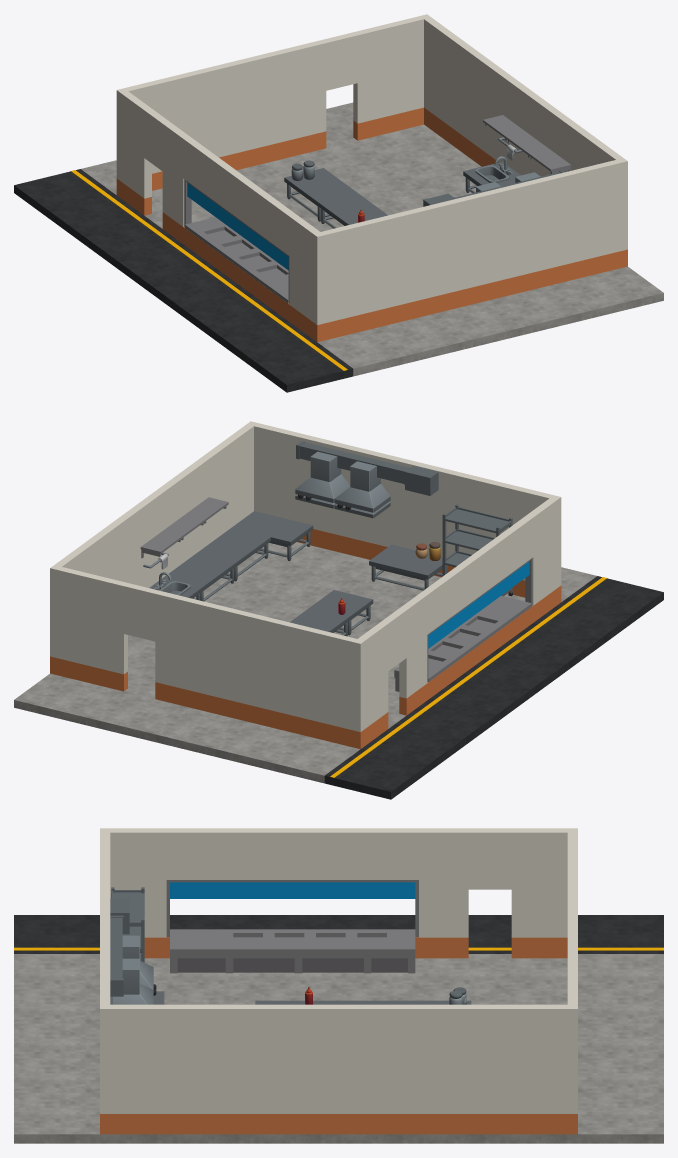
The model's file is QuackCook_Kitchen.glb.
3 views of the same model, one above another, from view 1: azimuth 30°, elevation 25°; view 2: azimuth 150°, elevation 25°; view 3: azimuth 270°, elevation 25° (orthographic). The views are drawn at different scales.
Parts seen in each view (by area): view 1: Part.023, Part.025, Union, Part.027, Union.001, Part.015, Part.028, Part.036, Union.002, Part.018, kitchentable_A_large.004, Part.039 (+8 smaller); view 2: Part.025, Union, Part.027, Part.023, Union.001, Part.015, Part.018, Part.036, Union.002, extractorhood.001, kitchentable_A_large.005, extractorhood (+17 smaller); view 3: Part.015, Part.025, Union.001, Part.027, Part.016, Union.002, Part.039, Part.035, Part.034, Union, Part.023, Part.036 (+8 smaller).
Part boxes in pixels (x1,y1,x2,y2): Part.023: (321, 160, 620, 323); Part.025: (81, 102, 663, 376); Union: (124, 16, 423, 173); Part.027: (14, 169, 353, 392); Union.001: (116, 88, 324, 324); Part.015: (420, 14, 627, 251); Part.028: (324, 251, 620, 340); Part.036: (162, 212, 324, 342); Union.002: (185, 217, 288, 303); Part.018: (152, 131, 326, 190); kitchentable_A_large.004: (284, 168, 357, 221); Part.039: (187, 183, 288, 270); Part.025: (14, 542, 596, 783); Union: (57, 567, 356, 730); Part.027: (324, 576, 663, 799); Part.023: (254, 423, 553, 580); Union.001: (353, 495, 561, 731); Part.015: (50, 421, 257, 658); Part.018: (155, 682, 353, 747); Part.036: (399, 585, 561, 715); Union.002: (394, 596, 531, 681); extractorhood.001: (334, 461, 390, 518); kitchentable_A_large.005: (369, 544, 447, 590); extractorhood: (295, 451, 350, 508); Part.015: (100, 1004, 577, 1113); Part.025: (14, 954, 663, 1143); Union.001: (100, 828, 577, 937); Part.027: (14, 915, 663, 953); Part.016: (100, 1114, 577, 1134); Union.002: (170, 929, 415, 953); Part.039: (170, 882, 415, 898); Part.035: (177, 958, 407, 972); Part.034: (170, 937, 415, 958); Union: (567, 832, 577, 1004); Part.023: (100, 832, 110, 1004); Part.036: (144, 937, 468, 958).
Size of what is drawn, in the model's own units: 50.68 by 14.53 by 63.52.
12 materials, 3 textured.
